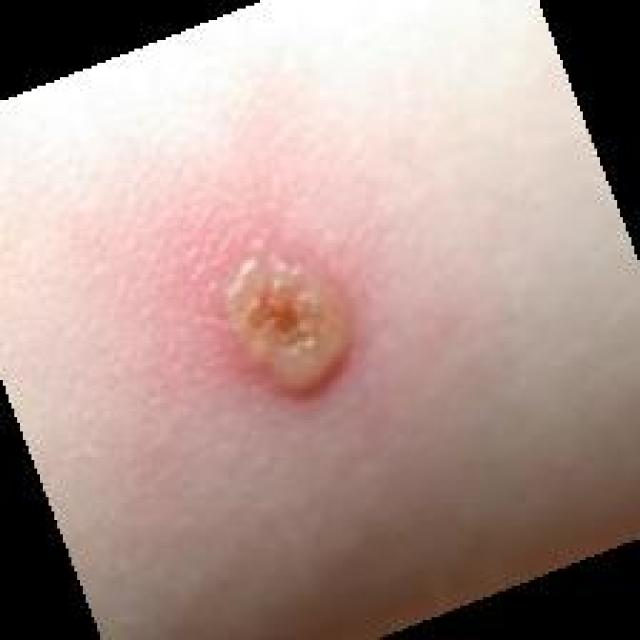others: (30, 114, 569, 550)
